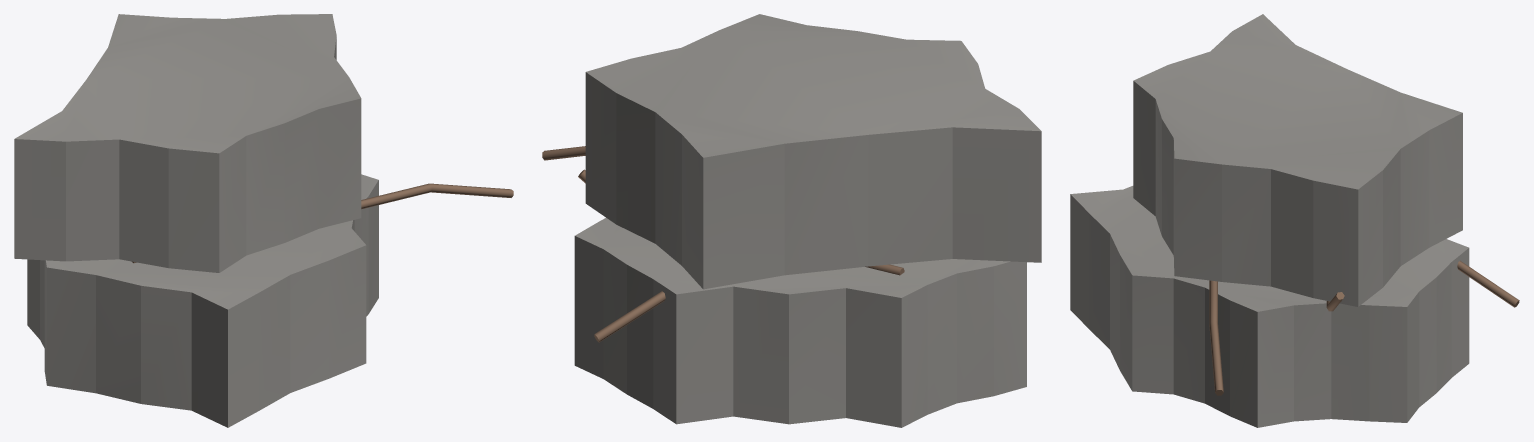
File: concrete_chunk_b.glb
3 views of the same model, side by side, from view 1: azimuth 30°, elevation 25°; view 2: azimuth 150°, elevation 25°; view 3: azimuth 270°, elevation 25° (orthographic). The views are drawn at different scales.
Visible parts, largest first — view 1: concrete_chunk_b; view 2: concrete_chunk_b; view 3: concrete_chunk_b.
Boxes of the visible parts, x1=… form: concrete_chunk_b: x1=14, y1=14, x2=513, y2=427; concrete_chunk_b: x1=542, y1=14, x2=1041, y2=427; concrete_chunk_b: x1=1070, y1=14, x2=1519, y2=427.
Size of the model in its own units: 1.04 by 0.5099 by 0.8621.
